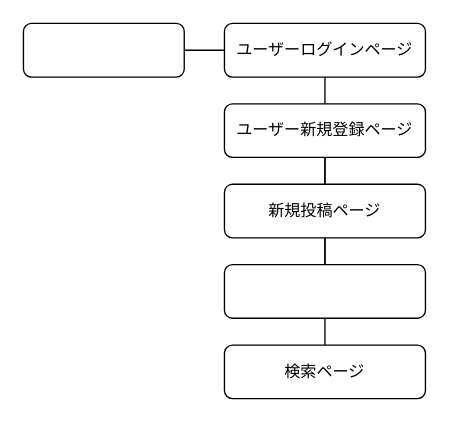
This 449x422 diagram has some shape labels left out. The centre of each missing label's shape, as x and y in pixels:
一覧ページ: point 103,49
投稿詳細ページ: point 324,290
